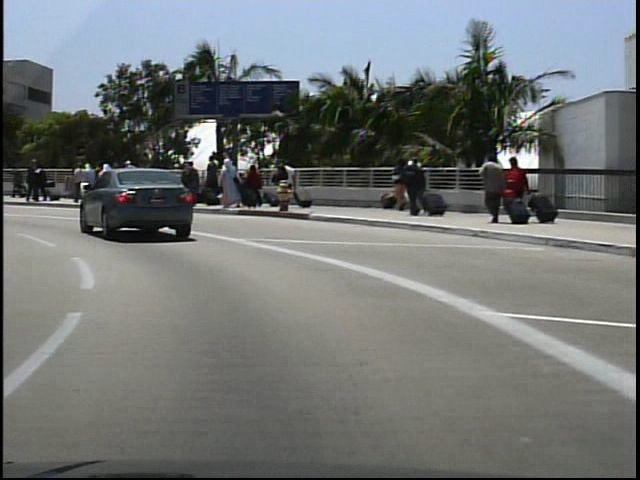person: (476, 151, 504, 224), (500, 156, 529, 223), (394, 155, 425, 217), (30, 159, 54, 209), (277, 157, 300, 206), (24, 157, 43, 202), (10, 164, 25, 201)
